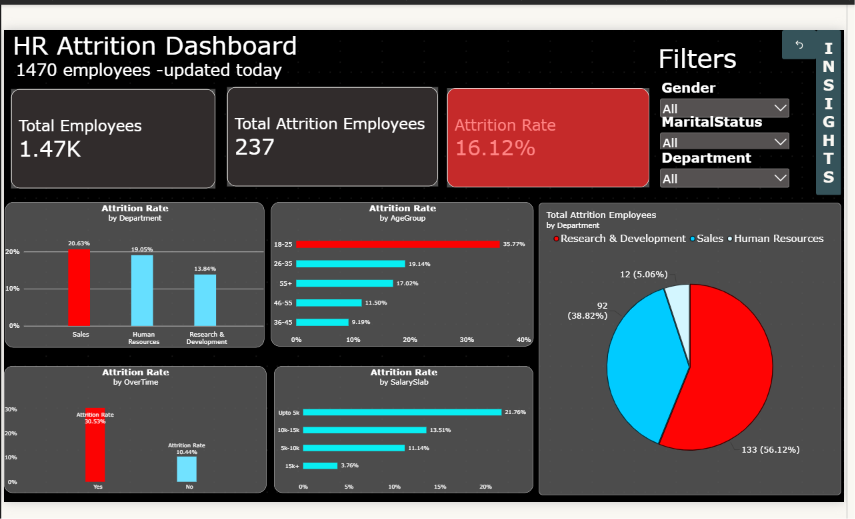

The dashboard page shown, as its layout file describes it:
{"tool":"powerbi","page":{"name":"Page 1","canvas":[1920,1080],"ordinal":0},"visuals":[{"type":"cardVisual","title":"Total employees","fields":{"Data":["HR_Analytics.Total_employees"]},"box":[15,135,467.5,227.5],"z":0},{"type":"cardVisual","fields":{"Data":["HR_Analytics.total attrition employee"]},"box":[510,130,482.5,227.5],"z":1000},{"type":"cardVisual","fields":{"Data":["HR_Analytics.overall_attrition_rate"]},"box":[1012.5,132.5,462.5,227.5],"z":2000},{"type":"columnChart","fields":{"Category":["HR_Analytics.Department"],"Y":["HR_Analytics.Attrition Rate"]},"box":[2.5,392.5,592.5,332.5],"z":3000},{"type":"clusteredBarChart","fields":{"Category":["HR_Analytics.AgeGroup"],"Y":["HR_Analytics.overall_attrition_rate"]},"box":[610,392.5,600,330],"z":4000},{"type":"clusteredColumnChart","fields":{"Category":["HR_Analytics.OverTime"],"Y":["HR_Analytics.Attrition Rate"]},"box":[0,767.5,600,290],"z":5000},{"type":"clusteredBarChart","fields":{"Category":["HR_Analytics.SalarySlab"],"Y":["HR_Analytics.overall_attrition_rate"]},"box":[617.5,767.5,592.5,290],"z":6000},{"type":"slicer","title":"Gender","fields":{"Values":["HR_Analytics.Gender"]},"box":[1495,112.5,305,102.5],"z":7000},{"type":"textbox","box":[0,0,940,132.5],"z":8000},{"type":"slicer","fields":{"Values":["HR_Analytics.Department"]},"box":[1495,272.5,305,90],"z":9000},{"type":"pieChart","title":"Total Attrition Employees","fields":{"Category":["HR_Analytics.Department"],"Y":["HR_Analytics.total attrition employee"]},"box":[1222.5,395,690,667.5],"z":10000},{"type":"slicer","fields":{"Values":["HR_Analytics.MaritalStatus"]},"box":[1495,190,305,82.5],"z":11000},{"type":"textbox","box":[1495,27.5,222.5,85],"z":12000},{"type":"actionButton","box":[1855,0,57.5,377.5],"z":13000},{"type":"actionButton","box":[1777.5,0,78.5,66.9],"z":13001}]}

Visuals, with their boxes in screenshot pixels (x1, y1, x2, y2):
"Total employees" cardVisual: locate(9, 86, 214, 186)
cardVisual - HR_Analytics.total attrition employee: locate(226, 84, 438, 184)
cardVisual - HR_Analytics.overall_attrition_rate: locate(447, 85, 650, 185)
columnChart - HR_Analytics.Department x HR_Analytics.Attrition Rate: locate(3, 199, 264, 345)
clusteredBarChart - HR_Analytics.AgeGroup x HR_Analytics.overall_attrition_rate: locate(270, 199, 534, 344)
clusteredColumnChart - HR_Analytics.OverTime x HR_Analytics.Attrition Rate: locate(2, 364, 266, 491)
clusteredBarChart - HR_Analytics.SalarySlab x HR_Analytics.overall_attrition_rate: locate(273, 364, 534, 491)
"Gender" slicer: locate(659, 76, 793, 121)
textbox: locate(2, 27, 415, 85)
slicer - HR_Analytics.Department: locate(659, 146, 793, 186)
"Total Attrition Employees" pieChart: locate(539, 200, 842, 493)
slicer - HR_Analytics.MaritalStatus: locate(659, 110, 793, 146)
textbox: locate(659, 39, 756, 76)
actionButton: locate(817, 27, 842, 193)
actionButton: locate(783, 27, 817, 56)
